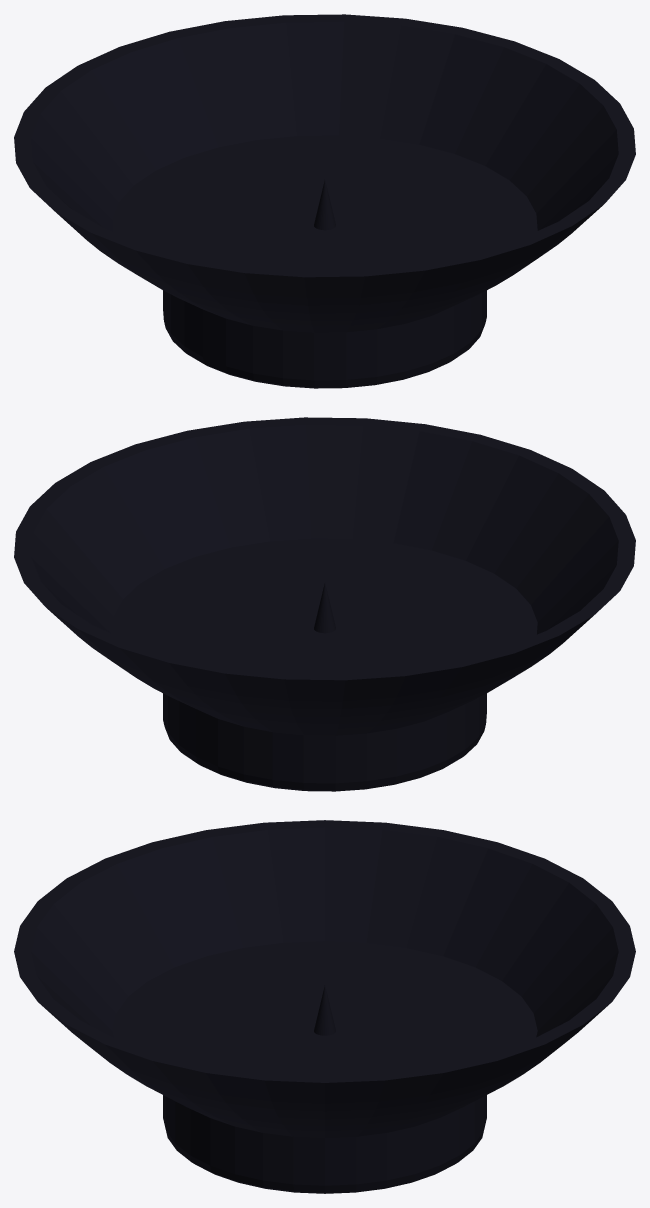
File: candle saucer.fbx
The picture shows the model from 3 angles, top to bottom: view 1: azimuth 30°, elevation 25°; view 2: azimuth 150°, elevation 25°; view 3: azimuth 270°, elevation 25°; orthographic projection.
Visible parts, largest first — view 1: candle saucer; view 2: candle saucer; view 3: candle saucer.
Boxes of the visible parts, x1,y1,x2,y2 form: candle saucer: (14, 14, 635, 388); candle saucer: (14, 417, 635, 791); candle saucer: (14, 820, 635, 1193).
Size of the model in its own units: 9.68 by 3.03 by 9.68.
